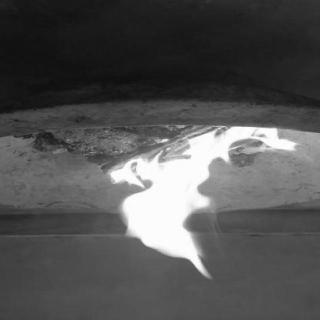Fire: (91, 116, 297, 284)
